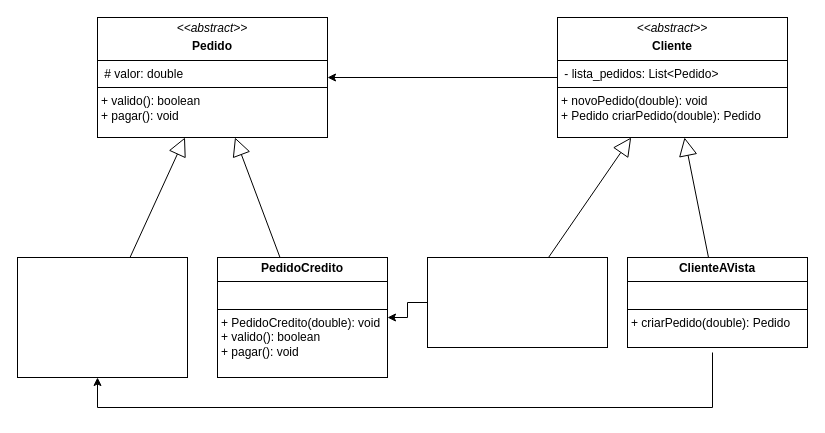
Image size: 825x433. Some labels were removed from this diagram. Each missing label, with the centre of its shape:
"ClienteCredito + criarPedido(double): Pedido" belongs at pixel 517 302.
"PedidoAVista + PedidoAVista(double): void + valido(): boolean + pagar(): void" belongs at pixel 102 317.
